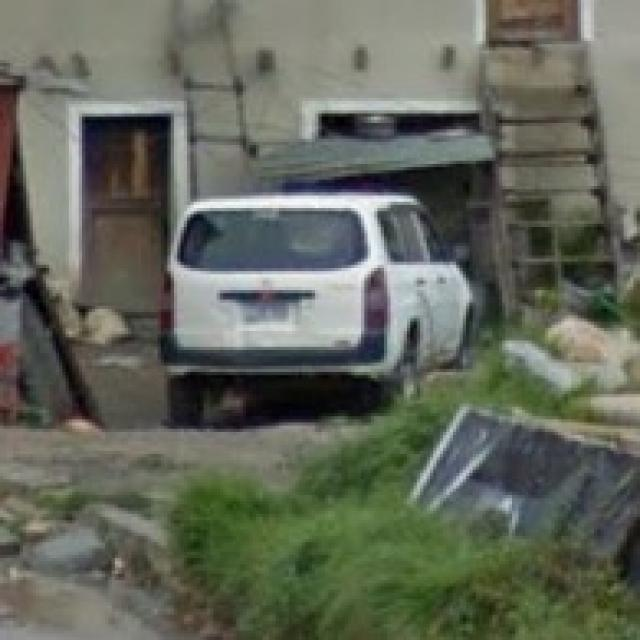cars: (163, 184, 482, 425)
